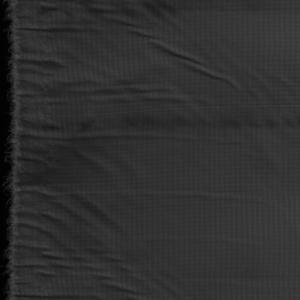Damage: (6, 1, 25, 300)
Wrinkle: (28, 1, 255, 300)
